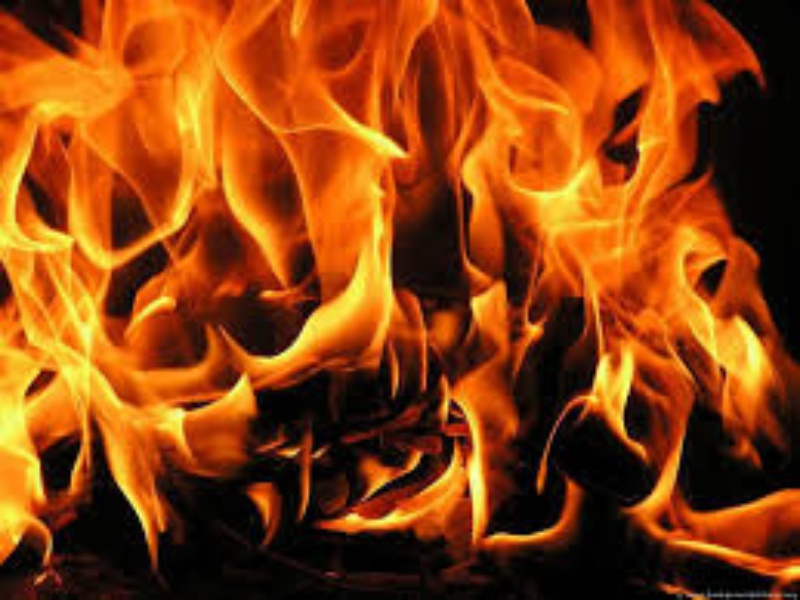fire: (1, 1, 799, 595)
